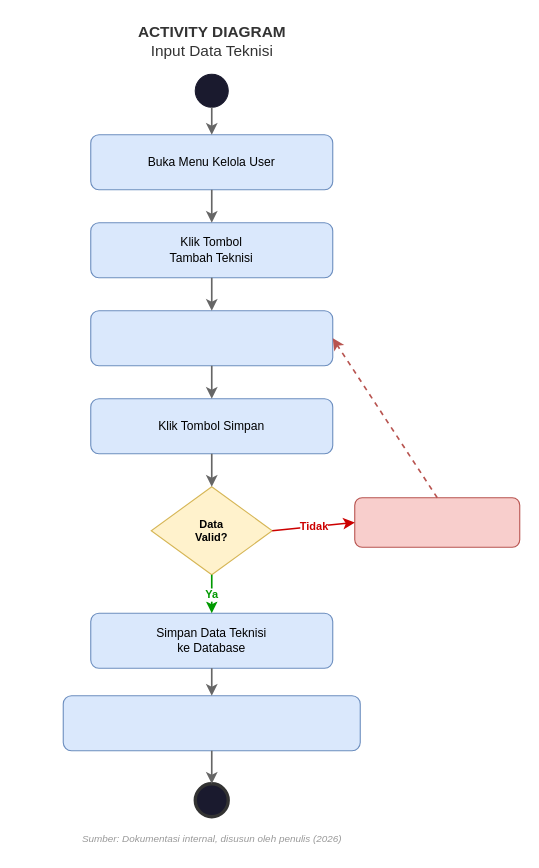
The diagram is 539 pixels wide and 868 high, and some of its shapes have lost their labels. Each missing label, with the box of its shape:
Input Nama, Username, & Password: (90, 310, 333, 366)
Tampilkan Pesan Error: (354, 497, 520, 547)
Tampilkan Pesan Teknisi Berhasil Ditambahkan: (62, 695, 360, 751)
